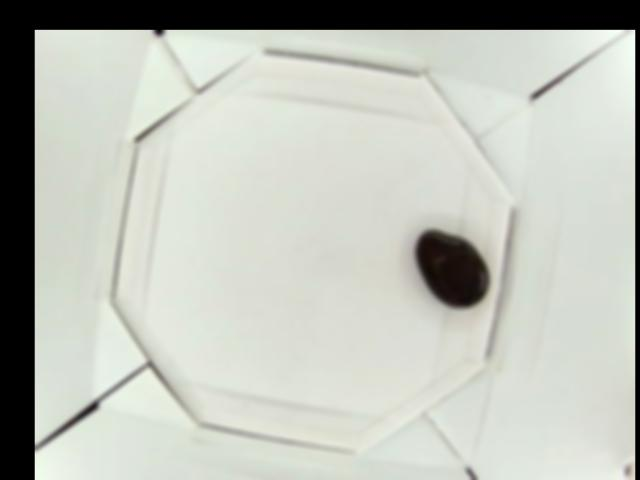Pebble: (415, 228, 486, 311)
